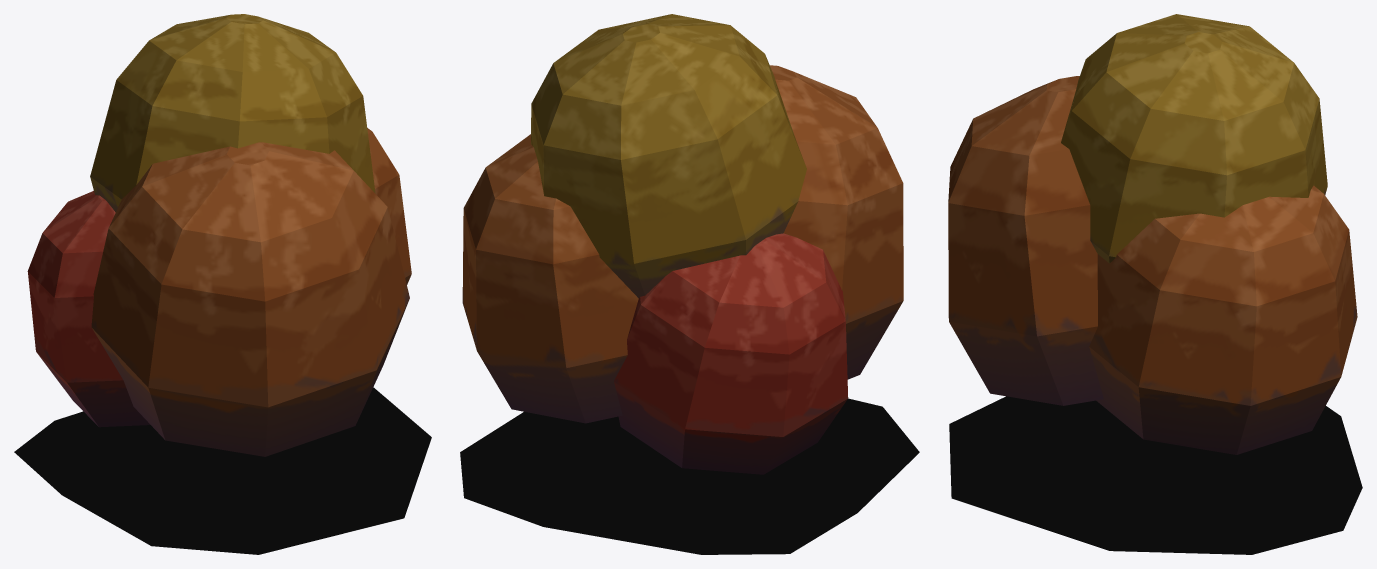
The model's file is Tree_004.fbx.
3 views of the same model, side by side, from view 1: azimuth 30°, elevation 25°; view 2: azimuth 150°, elevation 25°; view 3: azimuth 270°, elevation 25° (orthographic). The views are drawn at different scales.
Parts seen in each view (by area): view 1: Tree_003_01, Shadow, Tree_003_04, Tree_003_02, Tree_003_03; view 2: Tree_003_04, Tree_003_02, Shadow, Tree_003_03, Tree_003_01; view 3: Tree_003_03, Shadow, Tree_003_04, Tree_003_01.
Boxes of the visible parts, x1=… form: Tree_003_01: x1=91, y1=142, x2=409, y2=456; Shadow: x1=14, y1=387, x2=431, y2=554; Tree_003_04: x1=90, y1=14, x2=375, y2=212; Tree_003_02: x1=27, y1=191, x2=150, y2=427; Tree_003_03: x1=367, y1=128, x2=411, y2=284; Tree_003_04: x1=531, y1=14, x2=806, y2=298; Tree_003_02: x1=614, y1=233, x2=848, y2=474; Shadow: x1=460, y1=398, x2=919, y2=554; Tree_003_03: x1=462, y1=134, x2=638, y2=423; Tree_003_01: x1=770, y1=65, x2=903, y2=379; Tree_003_03: x1=1089, y1=185, x2=1357, y2=454; Shadow: x1=949, y1=396, x2=1362, y2=554; Tree_003_04: x1=1061, y1=14, x2=1327, y2=263; Tree_003_01: x1=948, y1=76, x2=1103, y2=405.
Size of the model in its own units: 200 by 234 by 200.
